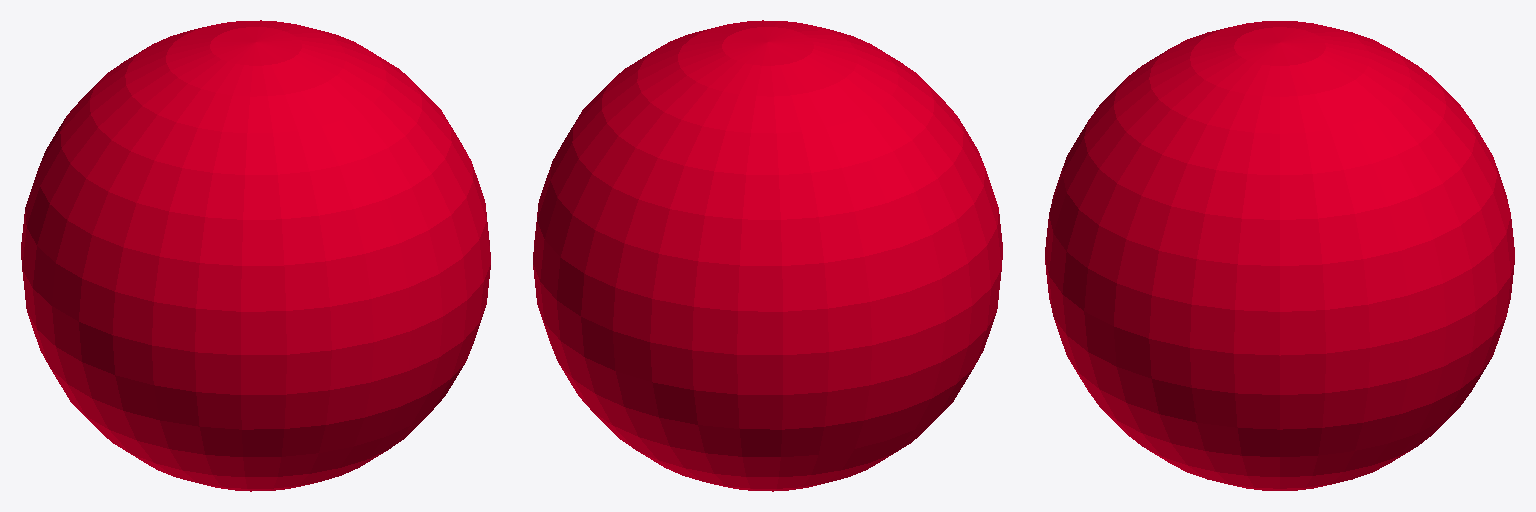
The robot description file, URDF, robot "universal_robot":
<?xml version="1.0"?>
<!--FOR GRIPPER, THERE IS NO LINK INERTIA DEFINED HERE-->
<robot name="universal_robot">

      <!-- TacTip -->
      <link name="tactip_body_link">
        <inertial>
          <origin rpy="0 0 0" xyz="0 0 0"/>
           <mass value="0.25"/>
           <inertia ixx="0.001" ixy="0" ixz="0" iyy="0.001" iyz="0" izz="0.001"/>
        </inertial>
        <visual>
          <origin rpy="0 0 0" xyz="0 0 0"/>
          <geometry>
    				<mesh filename="../standard_tactip/body/tactip_body.obj" scale="1.0 1.0 1.0"/>
          </geometry>
           <material name="whitish">
            <color rgba="0.8 0.8 0.8 1.0"/>
          </material>
        </visual>
        <collision>
          <origin rpy="0 0 0" xyz="0 0 0"/>
          <geometry>
    				<mesh filename="../standard_tactip/body/tactip_body.obj" scale="1.0 1.0 1.0"/>
          </geometry>
        </collision>
      </link>

      <link name="tactip_tip_link">
        <contact>
          <friction_anchor/>
          <lateral_friction value="1.0"/>
        </contact>
        <inertial>
          <origin rpy="0 0 0" xyz="0 0 0"/>
           <mass value="0.01"/>
           <inertia ixx="1" ixy="0" ixz="0" iyy="1" iyz="0" izz="1"/>
        </inertial>
        <visual>
          <origin rpy="0 0 0" xyz="0 0 0"/>
          <geometry>
            <mesh filename="tip/skin.obj" scale="1.0 1.0 1.0"/>
          </geometry>
           <material name="black">
            <color rgba="0.0 0.0 0.0 1.0"/>
          </material>
        </visual>
        <collision>
          <origin rpy="0 0 0" xyz="0 0 0"/>
          <geometry>
              <!-- <cylinder length="0.0065" radius="0.02"/> -->
              <mesh filename="tip/core.obj" scale="1.0 1.0 1.0"/>
          </geometry>
        </collision>
      </link>

      <joint name="tactip_tip_to_body" type="fixed">
         <origin rpy="1.57 0 0" xyz="0 0 0.065"/>
         <axis xyz="0 1 0"/>
         <parent link="tactip_body_link"/>
         <child link="tactip_tip_link"/>
      </joint>


      <!-- TCP -->
      <link name="tcp_link">
        <visual>
          <origin rpy="0 0 0" xyz="0 0 0"/>
          <geometry>
            <sphere radius="0.001"/>
          </geometry>
          <material name="TransparentRed">
            <color rgba="0.9 0 0.2 0.5"/>
          </material>
        </visual>
        <inertial>
          <mass value="0.0"/>
          <origin rpy="0.0 0.0 1.57" xyz="0.0 0.0 0.0"/>
          <inertia ixx="1.0" ixy="0.0" ixz="0.0" iyy="1.0" iyz="0.0" izz="1.0"/>
        </inertial>
      </link>

      <joint name="tcp_joint" type="fixed">
        <parent link="tactip_body_link"/>
        <child link="tcp_link"/>
        <origin rpy="0 0 0" xyz="0.0 0.0 0.07"/>
      </joint>

</robot>

--- What the picture shows (computed from the rendered views, not written in the file) ---
Views: 3 orthographic renders of the robot side by side, from view 1: azimuth 30°, elevation 25°; view 2: azimuth 150°, elevation 25°; view 3: azimuth 270°, elevation 25°.
Robot: universal_robot — 3 links, 2 joints (2 fixed); root link tactip_body_link; default pose: all joints at 0.
Visible links, largest first — view 1: tcp_link; view 2: tcp_link; view 3: tcp_link.
Boxes of the visible links, x1=… form: tcp_link: x1=21, y1=20, x2=490, y2=491; tcp_link: x1=533, y1=20, x2=1002, y2=491; tcp_link: x1=1045, y1=21, x2=1514, y2=490.
Bounding box of the posed robot: 0.002 × 0.002 × 0.002 m (x, y, z).
0 mesh visuals loaded from 2 distinct referenced files (none loaded); not drawn: 2 (reference not matched to a file when rendering).